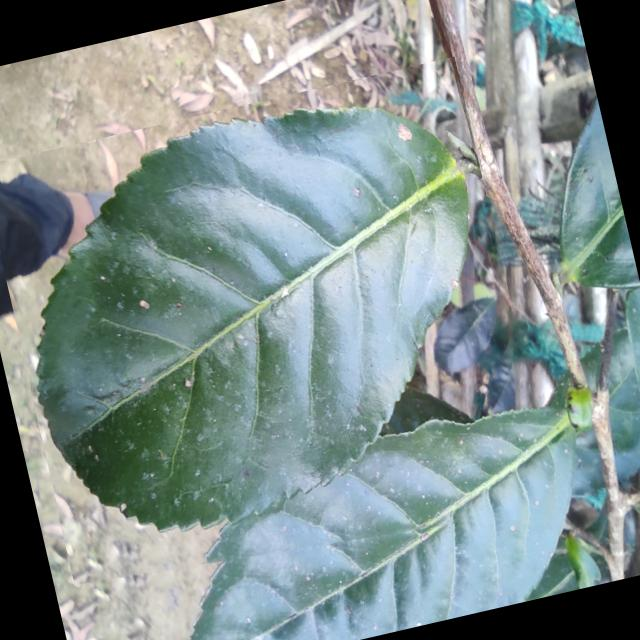Category D(7+ days, Not for Tea): (0, 56, 557, 616)
